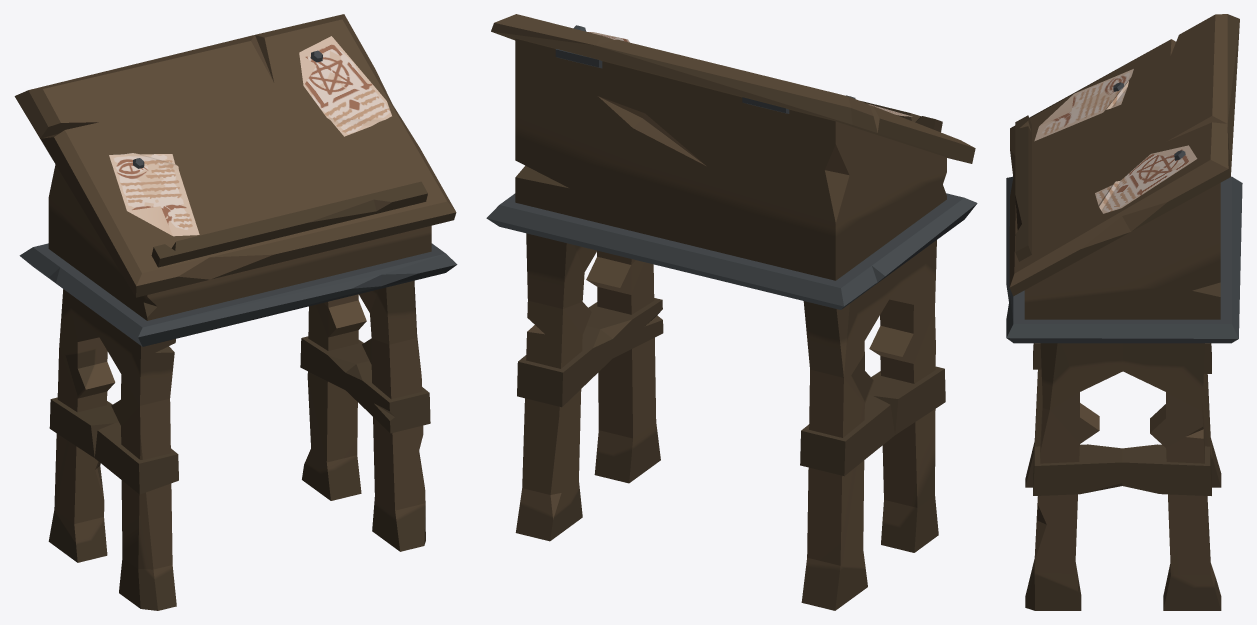
File: crypt_desk.gltf
The picture shows the model from 3 angles, left to right: view 1: azimuth 30°, elevation 25°; view 2: azimuth 150°, elevation 25°; view 3: azimuth 270°, elevation 25°; orthographic projection. The views are drawn at different scales.
Visible parts, largest first — view 1: crypt_desk; view 2: crypt_desk; view 3: crypt_desk.
Boxes of the visible parts, x1,y1,x2,y2 form: crypt_desk: (14,14,457,610); crypt_desk: (486,14,977,610); crypt_desk: (1006,14,1242,610).
Bounding box in the file's own units: 0.9228 × 1.24 × 0.5813.
1 material, 1 textured.
